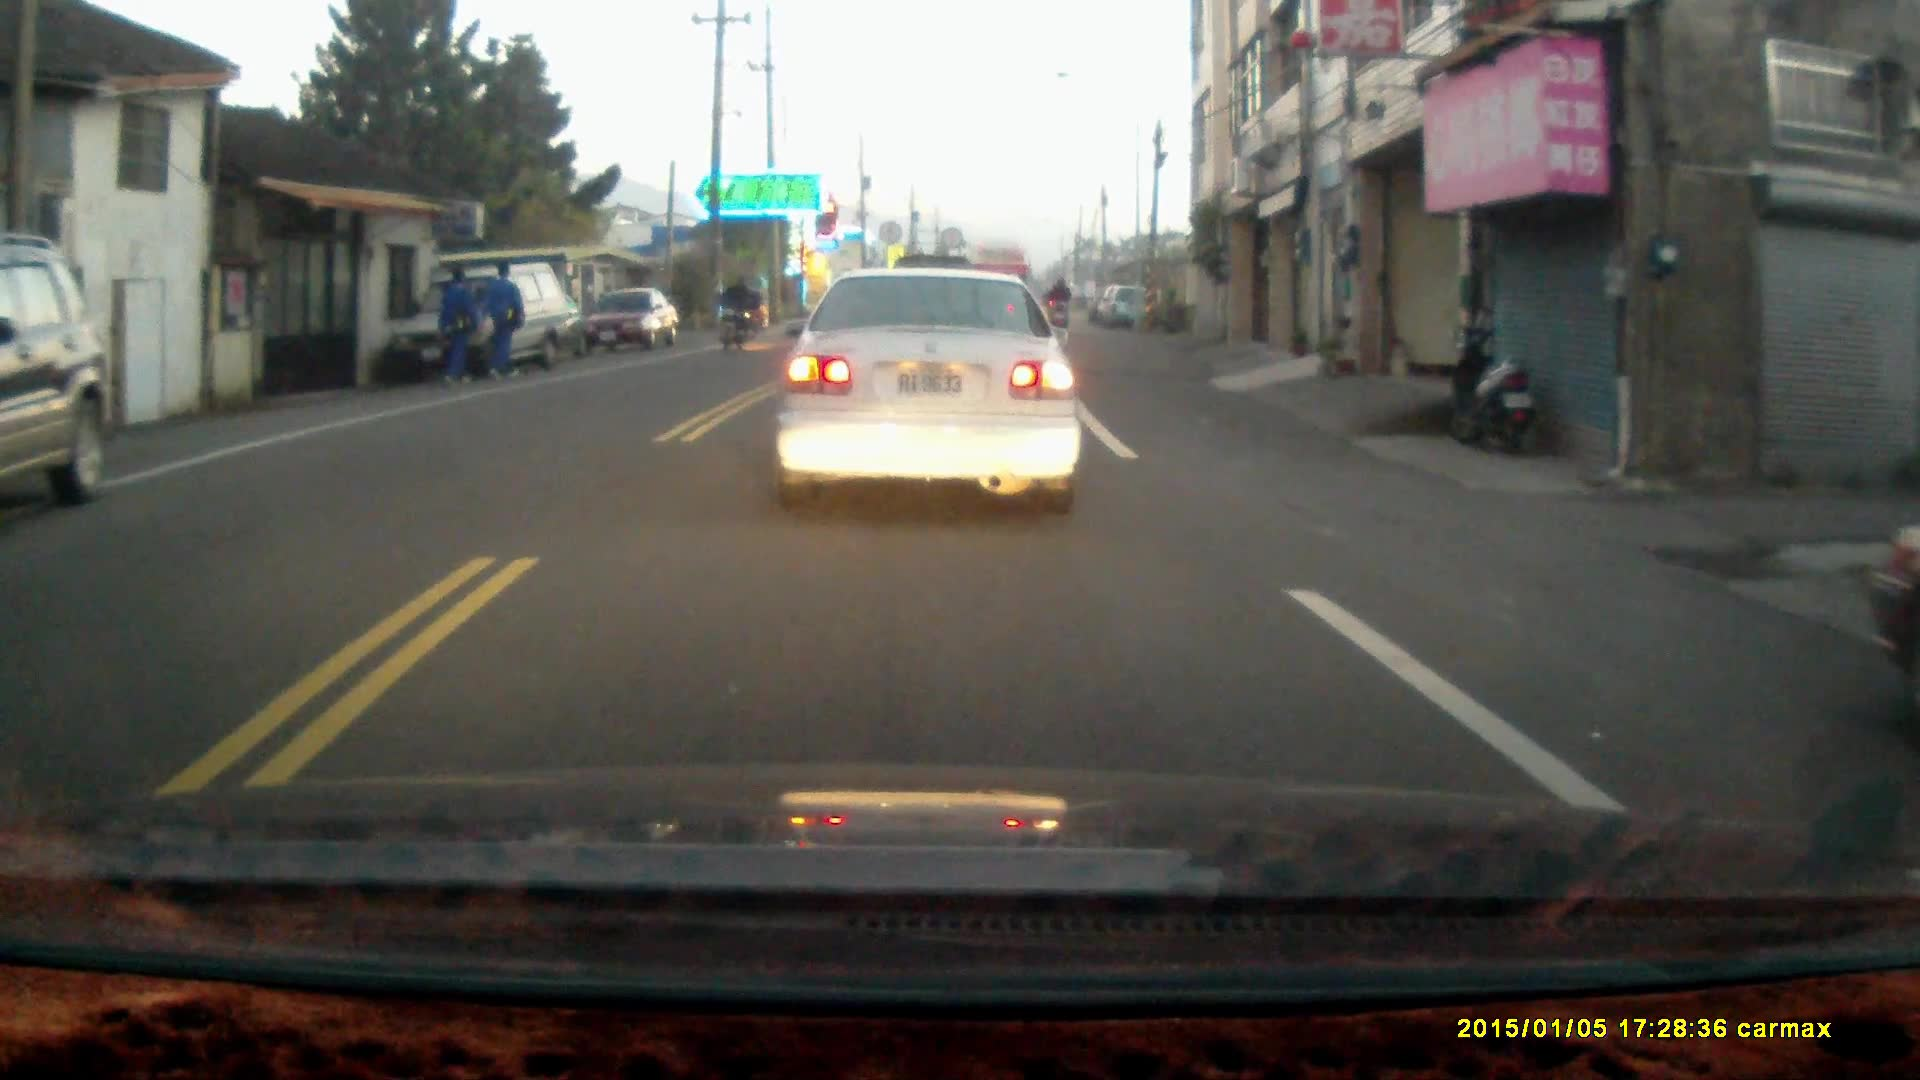pedestrian: (435, 260, 478, 390), (484, 258, 523, 385)
rider: (713, 274, 754, 350)
vehicle: (770, 267, 1085, 519), (1, 252, 114, 533), (407, 269, 586, 388), (1864, 525, 1920, 663), (577, 292, 683, 356)
